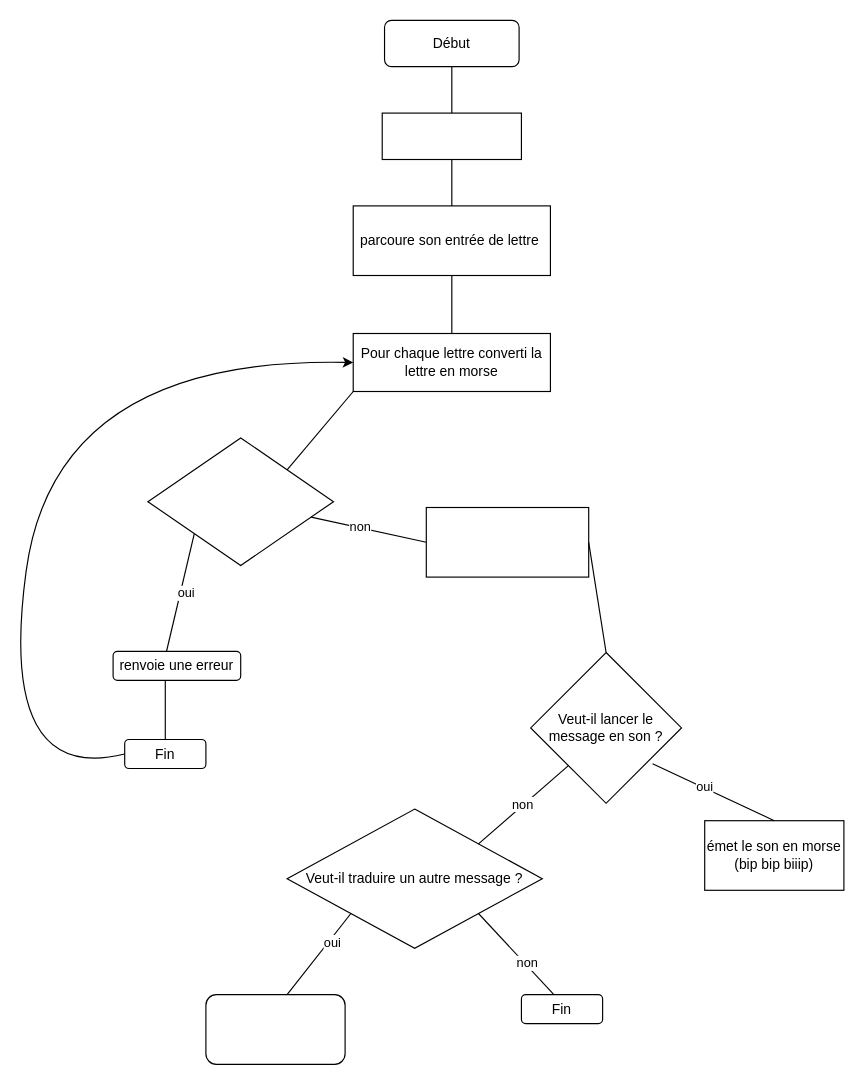
The diagram is 864 pixels wide and 1085 high, and some of its shapes have lost their labels. The shapes that lost their labels are listed below. From the top down, each one's centre as x and y in pixels, then its label:
point 451,136: prendre l'entrée de l'utilisateur
point 240,501: une des lettre est elle un caractère spécial ?
point 507,541: affiche son message traduit en morse
point 275,1029: relance une boucle
